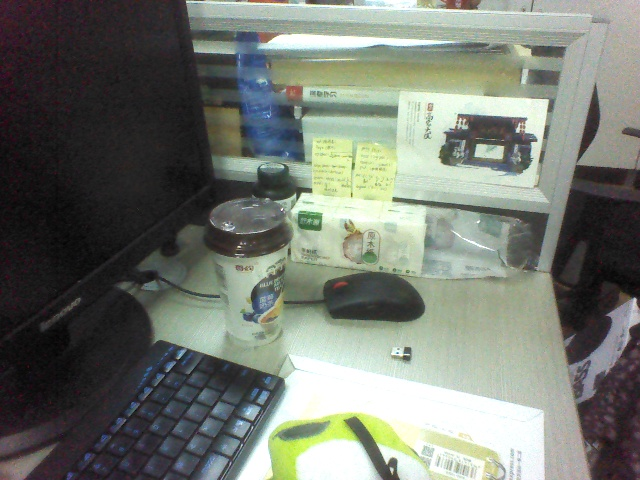ball: (247, 90, 368, 216)
